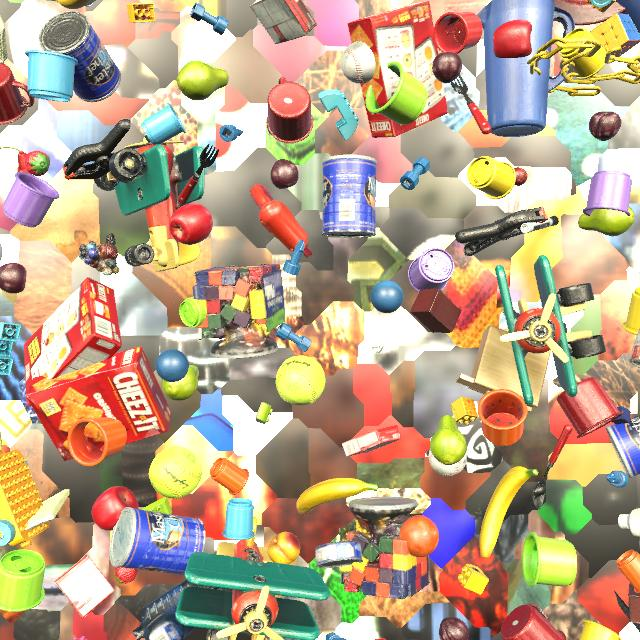ycb_002_master_chef_can: (39, 11, 121, 102), (110, 507, 206, 575), (322, 155, 377, 238), (606, 415, 640, 478)
ycb_003_cracker_box: (25, 346, 172, 461), (347, 1, 448, 138), (24, 277, 122, 407)
ycb_005_tomato_soup_can: (630, 328, 640, 368)
ycb_007_tuna_fish_can: (315, 541, 363, 568)
ycb_008_pudding_box: (250, 0, 317, 44)
ycb_009_gelatin_box: (54, 555, 115, 618), (342, 425, 402, 457)
ycb_011_banana: (479, 466, 538, 559), (296, 478, 378, 515), (48, 0, 90, 9)
ycb_012_strawberry: (25, 151, 50, 176), (114, 567, 138, 584)
ycb_013_apple: (92, 486, 138, 531), (169, 203, 213, 245), (493, 19, 532, 58)
ycb_015_peach: (268, 532, 300, 565), (115, 353, 116, 354)
ycb_016_pear: (177, 61, 229, 101), (430, 415, 467, 465), (578, 206, 635, 236), (162, 365, 199, 401)
ycb_017_orange: (399, 515, 439, 557)
ycb_018_plum: (589, 111, 621, 141), (432, 51, 462, 83), (270, 159, 299, 189), (0, 263, 27, 294), (439, 617, 469, 640)
